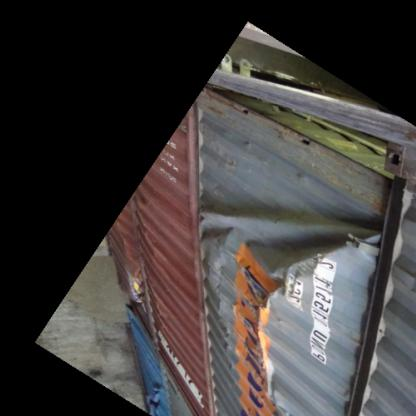Damage: (260, 217, 374, 281), (241, 273, 286, 412), (186, 207, 274, 259)
